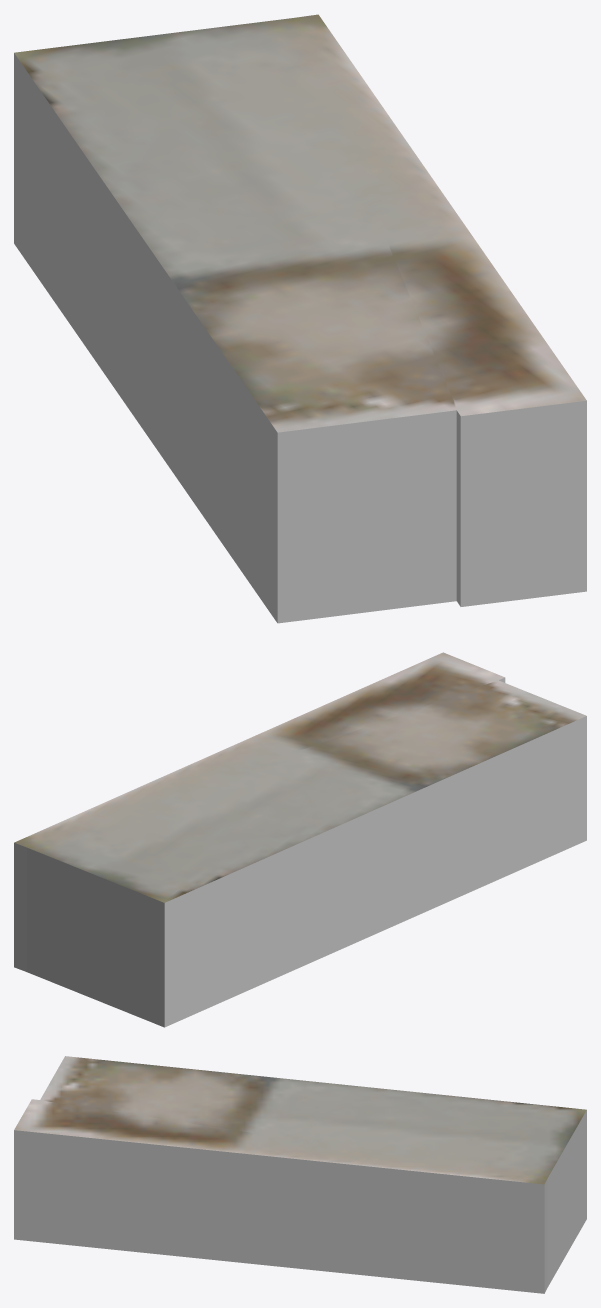
The model's file is DEBW_0010007TxhJ.gltf.
3 views of the same model, one above another, from view 1: azimuth 30°, elevation 25°; view 2: azimuth 150°, elevation 25°; view 3: azimuth 270°, elevation 25° (orthographic). The views are drawn at different scales.
Parts seen in each view (by area): view 1: Z_UP; view 2: Z_UP; view 3: Z_UP.
Part boxes in pixels (box(x1,y1,x2,y2)): Z_UP: box(14, 14, 586, 623); Z_UP: box(14, 652, 586, 1027); Z_UP: box(14, 1056, 586, 1293).
Bounding box in the file's own units: 10.04 × 3.99 × 18.93.
2 materials, 1 textured.
